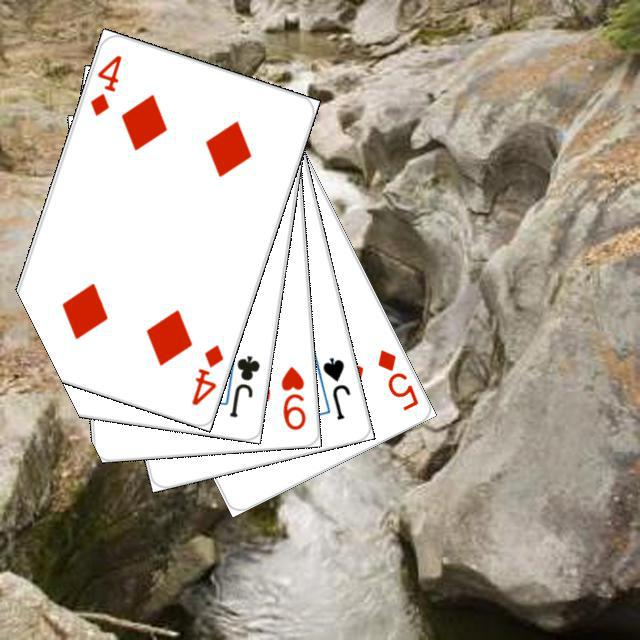4d: (186, 339, 225, 407), (85, 50, 123, 118)
5d: (372, 344, 420, 412)
9h: (276, 361, 308, 432)
Jc: (224, 350, 262, 419)
Js: (317, 352, 352, 422)
